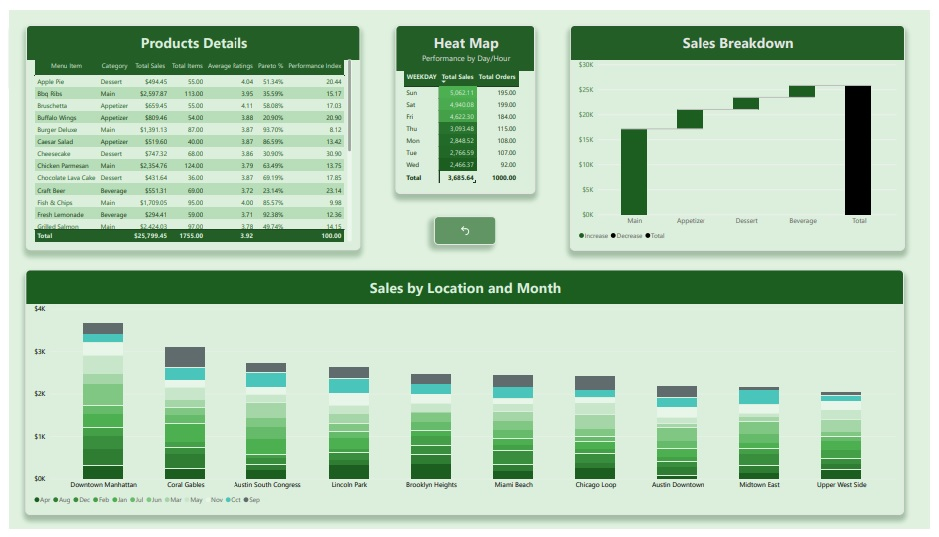

The page's visual inventory and layout, read from the dashboard file:
{"tool":"powerbi","page":{"name":"Sales Analysis","canvas":[1920,1080],"ordinal":1},"visuals":[{"type":"columnChart","title":"Sales by Location and Month","fields":{"Category":["Locations.Restaurant Location"],"Series":["Calendar.MONTH"],"Y":["Restaurant Sales.Total Sales"]},"box":[35,540,1832,510],"z":0},{"type":"tableEx","title":"Products Details","fields":{"Values":["Restaurant Sales.Menu Item","Restaurant Sales.Category","Restaurant Sales.Total Sales","Restaurant Sales.Total Items","Restaurant Sales.Average Ratings","Restaurant Sales.Pareto %","Restaurant Sales.Performance Index"]},"box":[36,30,698,468],"z":1000},{"type":"waterfallChart","title":"Sales Breakdown","fields":{"Category":["Restaurant Sales.Category"],"Y":["Restaurant Sales.Total Sales"]},"box":[1170,30,698.8,468.8],"z":2000},{"type":"pivotTable","title":"Heat Map ","fields":{"Rows":["Calendar.WEEKDAY"],"Values":["select","Restaurant Sales.Total Sales","Restaurant Sales.Total Orders"]},"box":[806.7,30,291.1,351.1],"z":3000},{"type":"actionButton","box":[886.7,426.7,130,60],"z":4000}]}

Visuals, with their boxes in screenshot pixels (x1, y1, x2, y2), scaled from the page's 1920x1080 canvas onto the 939x537 screenshot:
"Sales by Location and Month" columnChart: [left=17, top=268, right=913, bottom=522]
"Products Details" tableEx: [left=18, top=15, right=359, bottom=248]
"Sales Breakdown" waterfallChart: [left=572, top=15, right=914, bottom=248]
"Heat Map " pivotTable: [left=395, top=15, right=537, bottom=189]
actionButton: [left=434, top=212, right=497, bottom=242]
